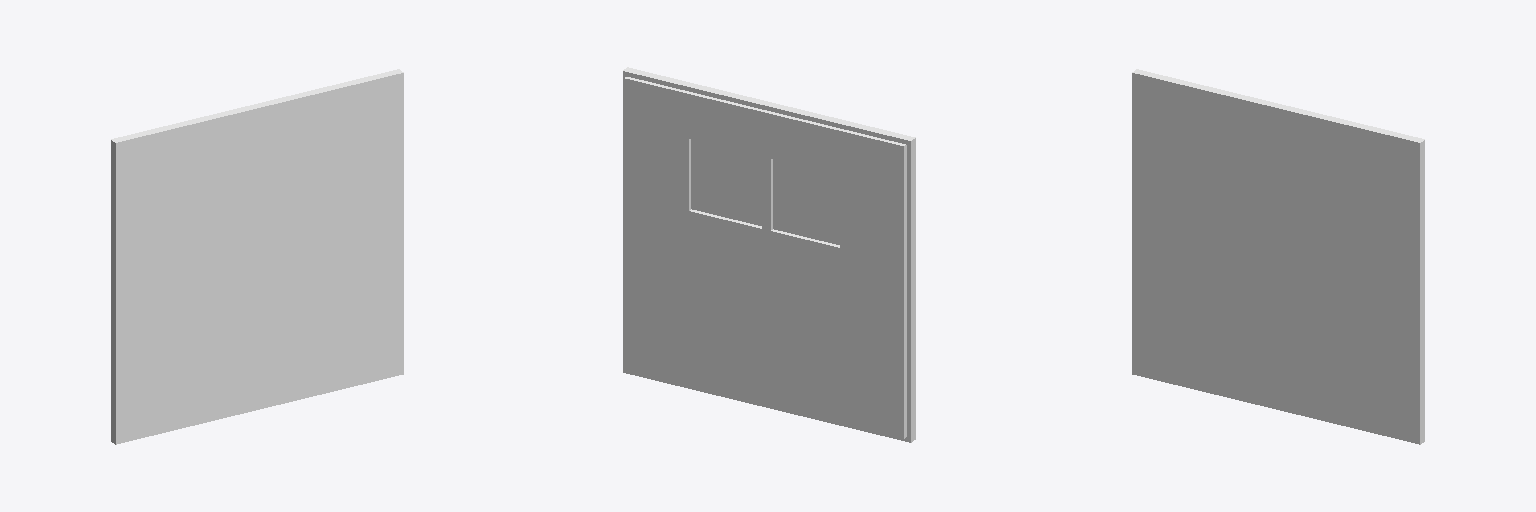
File: dom-1.obj
The picture shows the model from 3 angles: view 1: azimuth 30°, elevation 25°; view 2: azimuth 150°, elevation 25°; view 3: azimuth 330°, elevation 25°; orthographic projection.
Visible parts, largest first — view 1: object 1; view 2: object 1; view 3: object 1.
Part boxes in pixels (bbox=[...]): object 1: bbox=[111, 69, 403, 444]; object 1: bbox=[623, 67, 915, 442]; object 1: bbox=[1132, 69, 1424, 444].
Size of the model in its own units: 6.7 by 6.7 by 0.3.